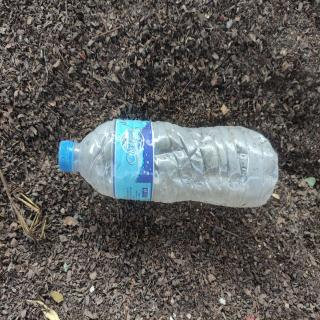Plastic-bottle: (57, 115, 282, 214)
